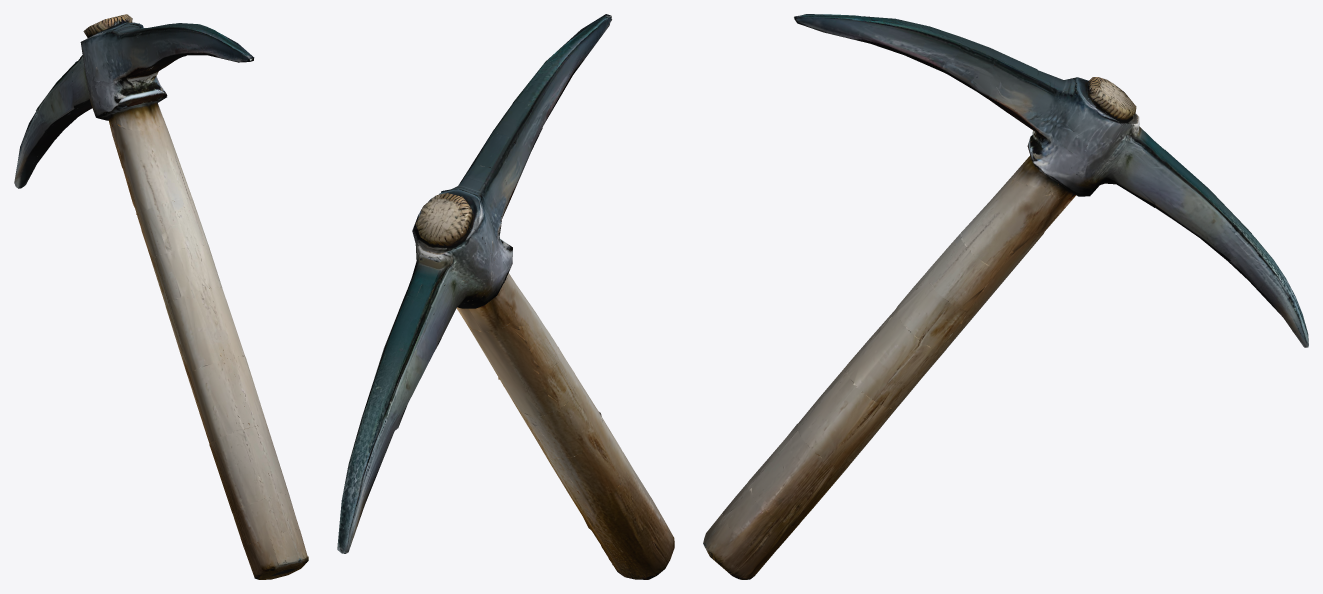
The picture shows the model from 3 angles, left to right: view 1: azimuth 30°, elevation 25°; view 2: azimuth 150°, elevation 25°; view 3: azimuth 270°, elevation 25°; orthographic projection. The views are drawn at different scales.
Parts seen in each view (by area): view 1: tripo_node_f66d72f0-f76d-48fb-9a99-cc95e9fff9da; view 2: tripo_node_f66d72f0-f76d-48fb-9a99-cc95e9fff9da; view 3: tripo_node_f66d72f0-f76d-48fb-9a99-cc95e9fff9da.
Boxes of the visible parts, box(x1,y1,x2,y2) form: tripo_node_f66d72f0-f76d-48fb-9a99-cc95e9fff9da: box(14, 14, 308, 579); tripo_node_f66d72f0-f76d-48fb-9a99-cc95e9fff9da: box(337, 14, 674, 579); tripo_node_f66d72f0-f76d-48fb-9a99-cc95e9fff9da: box(703, 14, 1308, 579).
Bounding box in the file's own units: 10.36 × 86.39 × 84.65.
1 material, 1 textured.
